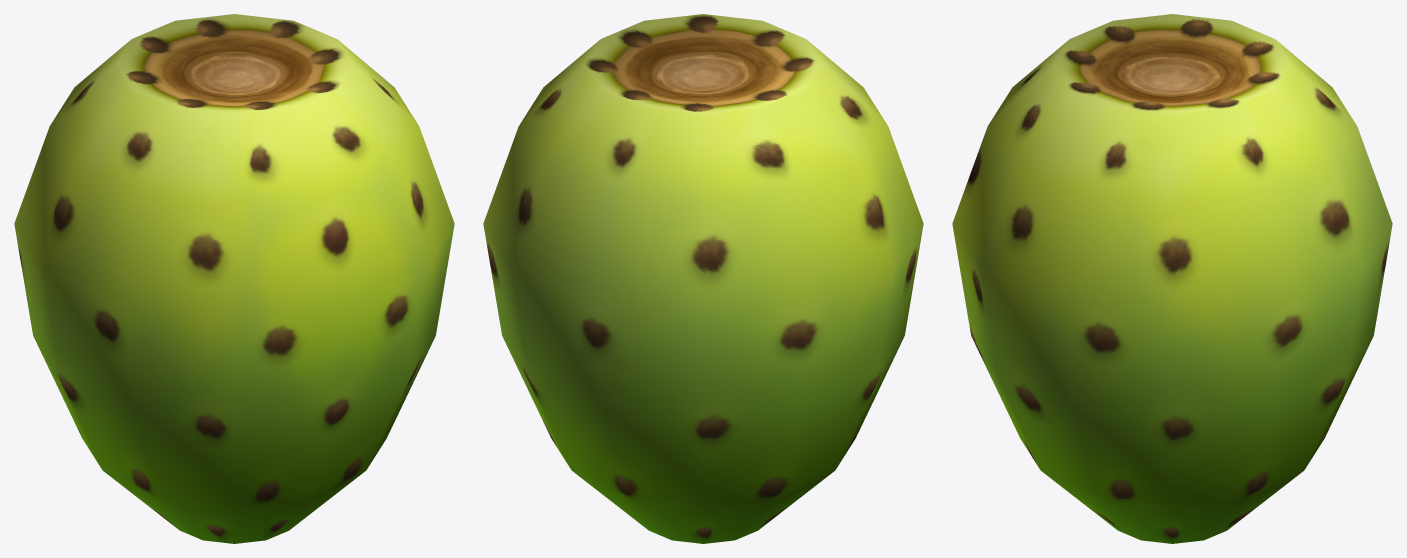
Rendered from PricklyPear.fbx.
3 views of the same model, side by side, from view 1: azimuth 30°, elevation 25°; view 2: azimuth 150°, elevation 25°; view 3: azimuth 270°, elevation 25° (orthographic).
Visible parts, largest first — view 1: PricklyPear_Green; view 2: PricklyPear_Green; view 3: PricklyPear_Green.
Boxes of the visible parts, left/top/right/bottom form: PricklyPear_Green: left=14, top=14, right=454, bottom=543; PricklyPear_Green: left=483, top=14, right=923, bottom=543; PricklyPear_Green: left=952, top=14, right=1392, bottom=543.
Bounding box in the file's own units: 26.57 × 31.42 × 26.57.
